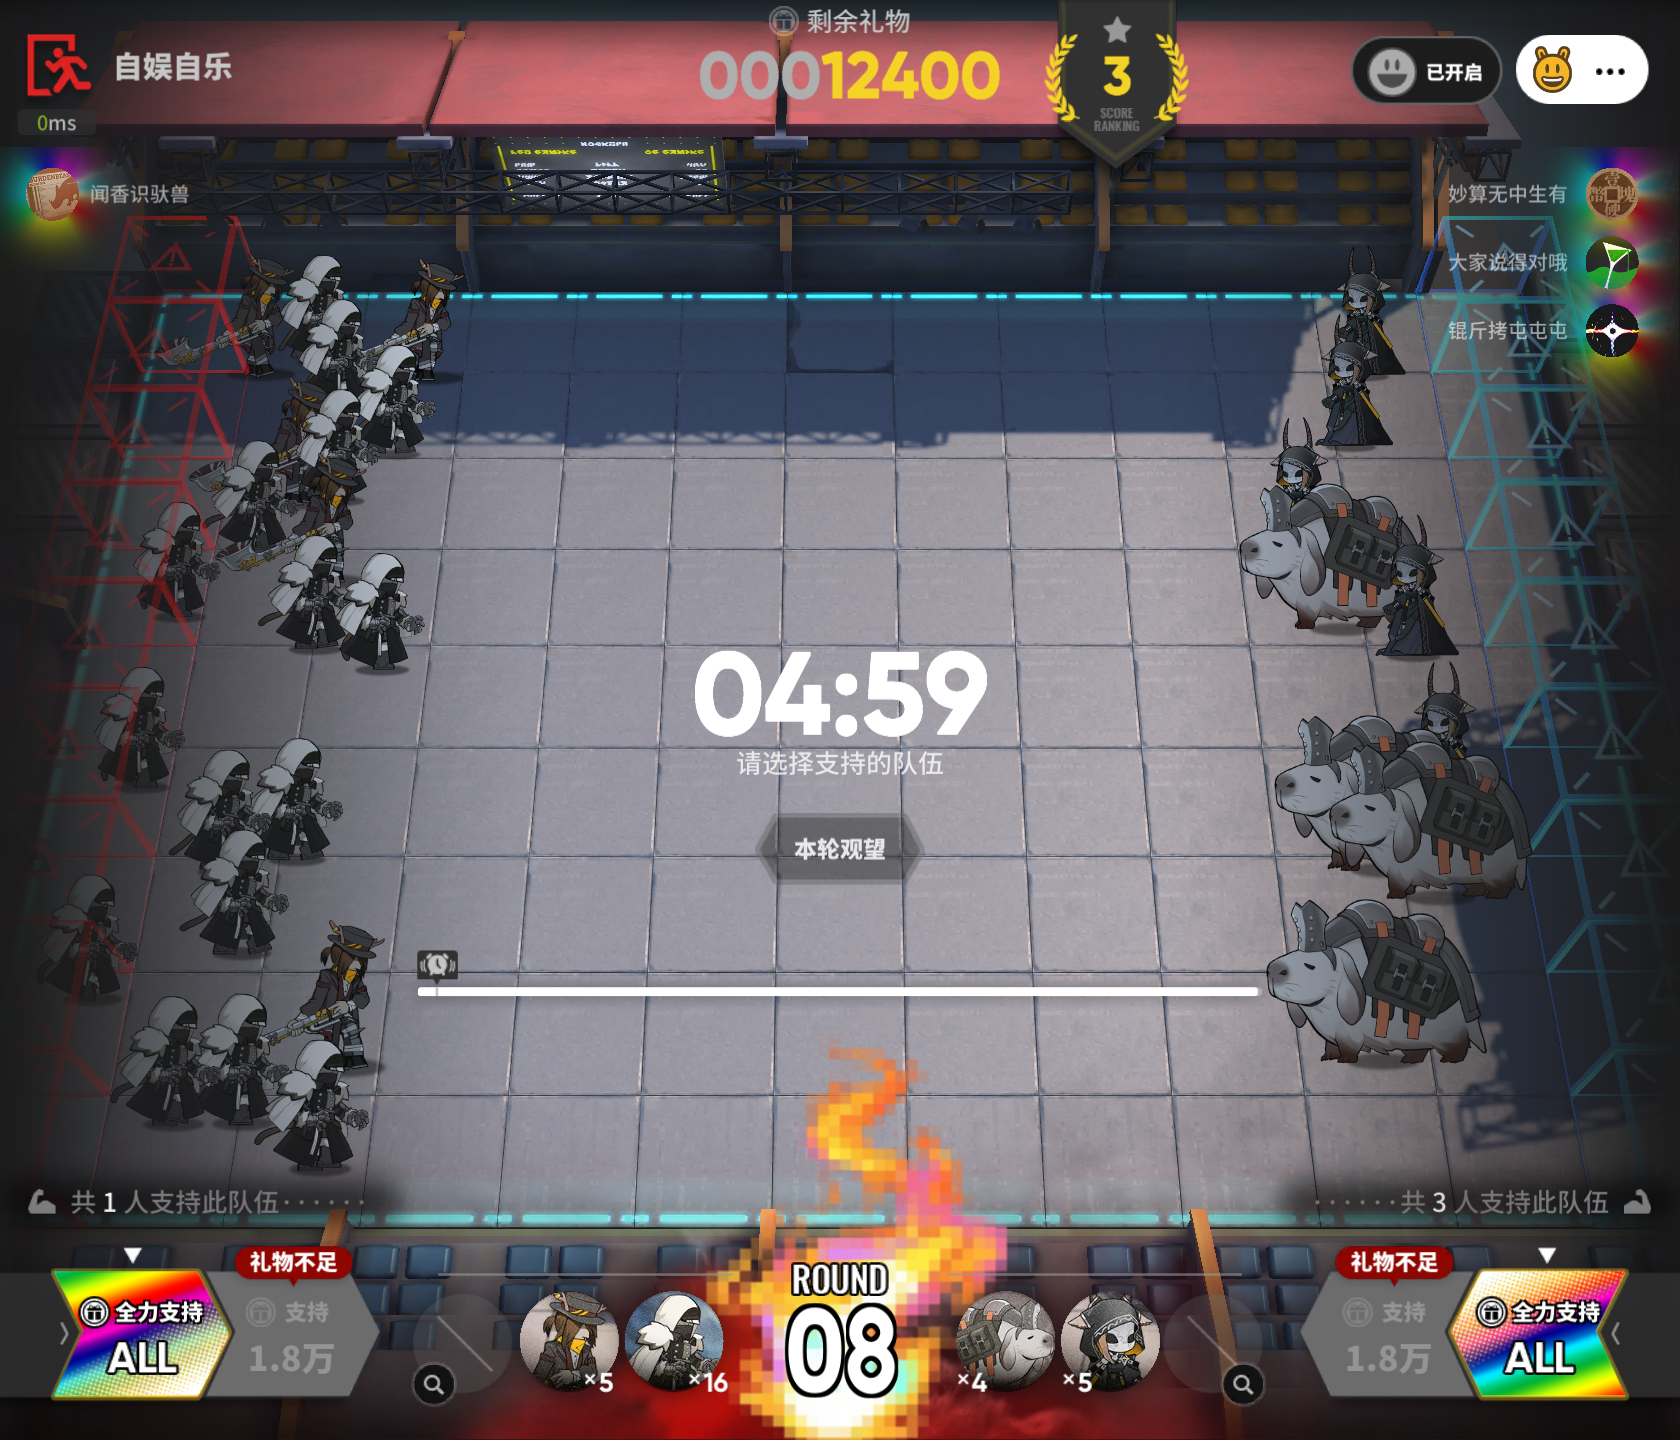冰手术师: (44, 866, 144, 1011), (187, 827, 286, 970), (274, 1031, 373, 1173), (191, 991, 291, 1129), (334, 549, 431, 679), (251, 739, 347, 870), (353, 341, 441, 481), (111, 997, 206, 1129), (129, 500, 221, 629), (621, 1286, 731, 1391), (99, 669, 186, 801), (269, 534, 361, 659), (274, 250, 361, 374), (176, 743, 263, 866), (289, 386, 374, 509), (221, 437, 287, 564), (304, 297, 377, 396)
失业萨克斯手: (249, 911, 394, 1081), (214, 453, 367, 589), (151, 256, 294, 380), (194, 380, 336, 503), (359, 259, 471, 379), (523, 1286, 629, 1393)
安逸的驮兽: (1254, 899, 1489, 1074), (1331, 739, 1539, 913), (1241, 490, 1431, 639), (1286, 706, 1454, 871), (956, 1286, 1067, 1397)
扩音术师: (1066, 1280, 1169, 1399), (1380, 514, 1460, 660), (1319, 339, 1397, 461), (1333, 261, 1403, 381), (1264, 416, 1331, 534), (1420, 659, 1477, 767)
